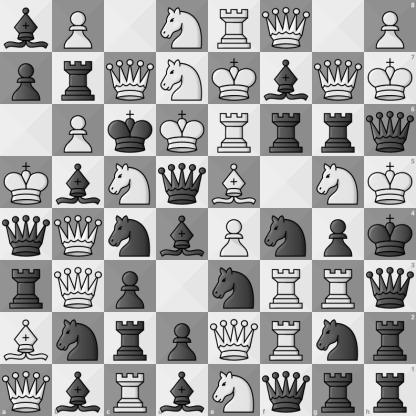B: (1, 313, 52, 364), (209, 157, 260, 208)
K: (364, 156, 416, 209), (364, 52, 416, 104), (1, 157, 52, 208), (157, 105, 208, 156), (209, 53, 260, 104)
N: (209, 364, 260, 416), (105, 157, 156, 208), (157, 1, 208, 52), (157, 53, 208, 104), (313, 157, 364, 208)
P: (364, 0, 416, 52), (53, 1, 104, 52), (53, 105, 104, 156), (209, 209, 260, 260)
Q: (0, 364, 52, 416), (53, 209, 104, 260), (53, 261, 104, 312), (105, 53, 156, 104), (209, 313, 260, 364), (261, 1, 312, 52), (313, 53, 364, 104)
R: (104, 364, 156, 416), (209, 1, 260, 52), (209, 105, 260, 156), (261, 261, 312, 312), (261, 313, 312, 364), (313, 261, 364, 312)
b: (156, 364, 209, 416), (52, 364, 104, 416), (1, 1, 52, 52), (53, 157, 104, 208), (157, 209, 208, 260), (261, 53, 312, 104)
board: (0, 0, 415, 415)
k: (364, 209, 416, 260), (105, 105, 156, 156)
n: (53, 313, 104, 364), (105, 209, 156, 260), (209, 261, 260, 312), (261, 209, 312, 260), (313, 313, 364, 364)
p: (1, 53, 52, 104), (105, 261, 156, 312), (157, 313, 208, 364), (313, 209, 364, 260)
q: (260, 364, 312, 416), (364, 104, 416, 156), (364, 260, 416, 312), (1, 209, 52, 260), (157, 157, 208, 208)
r: (312, 364, 364, 416), (364, 312, 416, 364), (364, 364, 416, 416), (1, 261, 52, 312), (53, 53, 104, 104), (105, 313, 156, 364), (261, 105, 312, 156), (313, 105, 364, 156)
